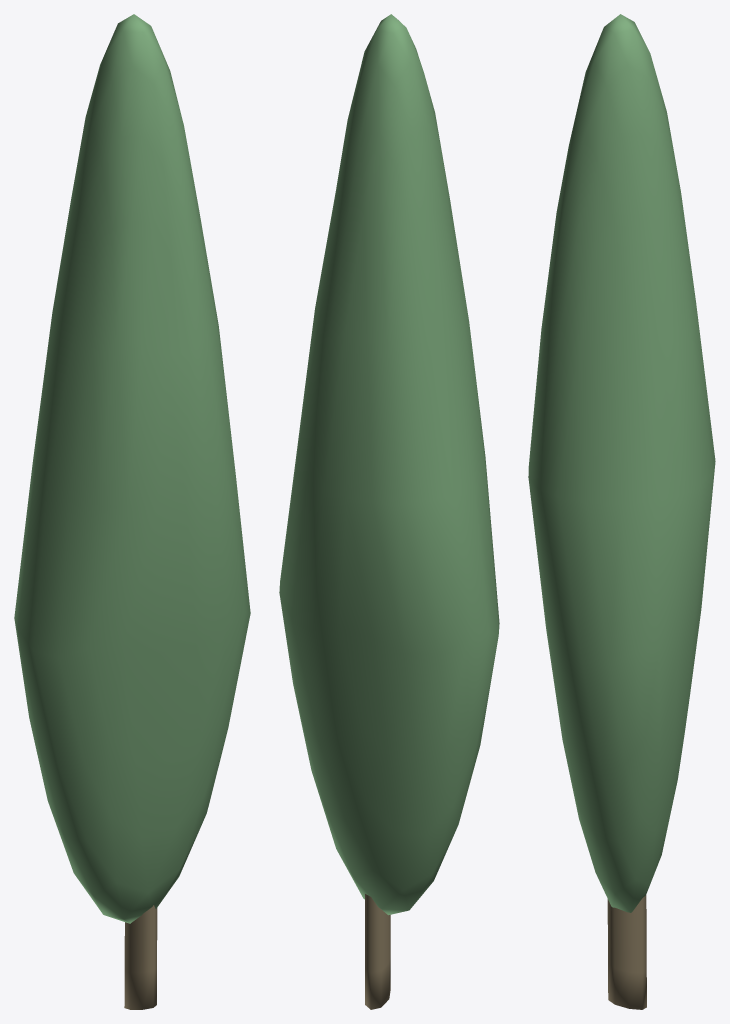
File: lollypop5.glb
3 renders of one model, left to right at view 1: azimuth 30°, elevation 25°; view 2: azimuth 150°, elevation 25°; view 3: azimuth 270°, elevation 25°, orthographic.
Parts seen in each view (by area): view 1: Popular.001, Trunk.002; view 2: Popular.001, Trunk.002; view 3: Popular.001, Trunk.002.
Part boxes in pixels (x1,y1,x2,y2): Popular.001: [14, 14, 250, 923]; Trunk.002: [124, 905, 157, 1009]; Popular.001: [279, 14, 499, 915]; Trunk.002: [365, 894, 390, 1009]; Popular.001: [528, 14, 715, 912]; Trunk.002: [607, 895, 646, 1009].
Size of the model in its own units: 1.97 by 8.83 by 1.51.
